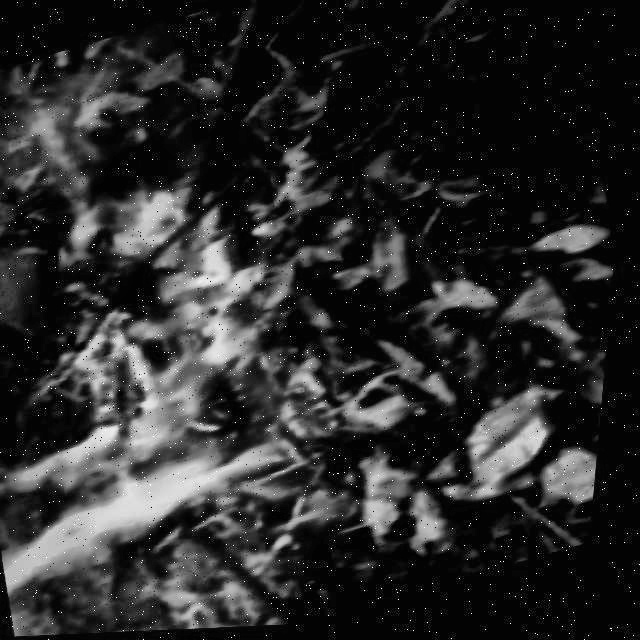Fire: (0, 341, 352, 626), (56, 153, 295, 494)
